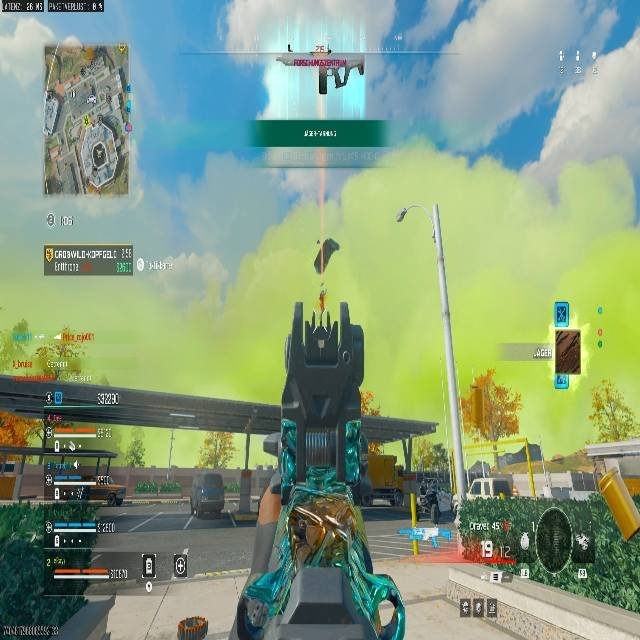player: (313, 236, 340, 274), (426, 488, 440, 523)
